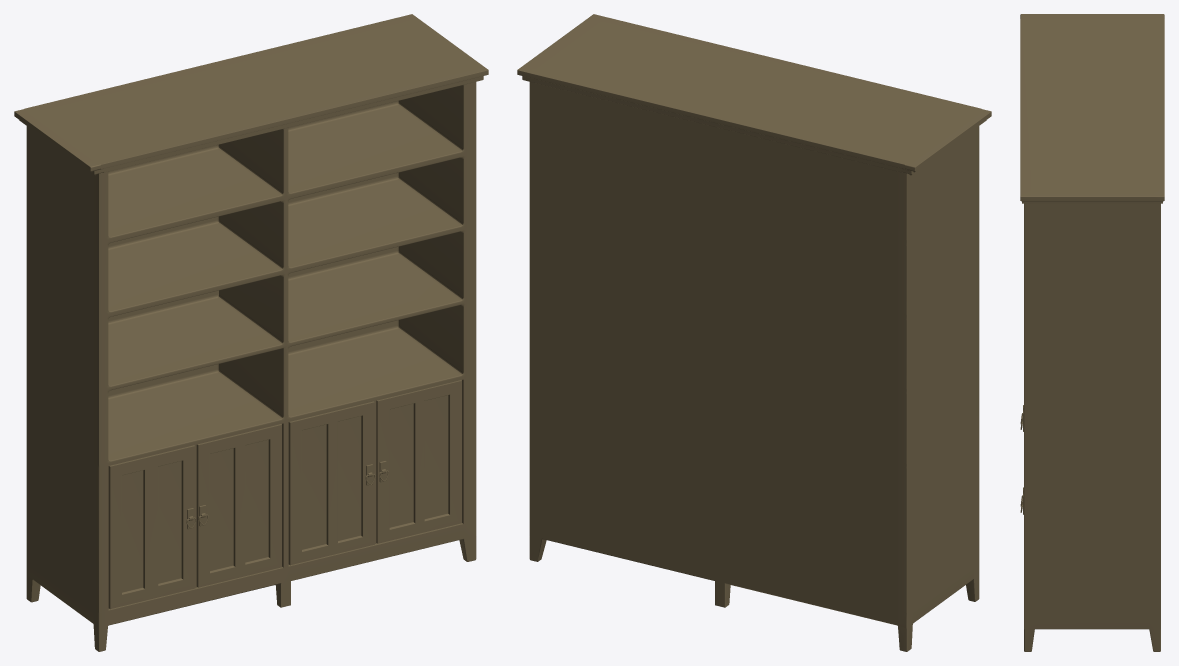
Rendered from Bookshelf_high.fbx.
3 renders of one model, left to right at view 1: azimuth 30°, elevation 25°; view 2: azimuth 150°, elevation 25°; view 3: azimuth 270°, elevation 25°, orthographic. The views are drawn at different scales.
Visible parts, largest first — view 1: bookshelf_high; view 2: bookshelf_high; view 3: bookshelf_high.
Part boxes in pixels (left/top/right/bottom): bookshelf_high: left=14, top=14, right=488, bottom=651; bookshelf_high: left=517, top=14, right=991, bottom=651; bookshelf_high: left=1020, top=14, right=1164, bottom=651.
Size of the model in its own units: 1.86 by 2.19 by 0.6212.
